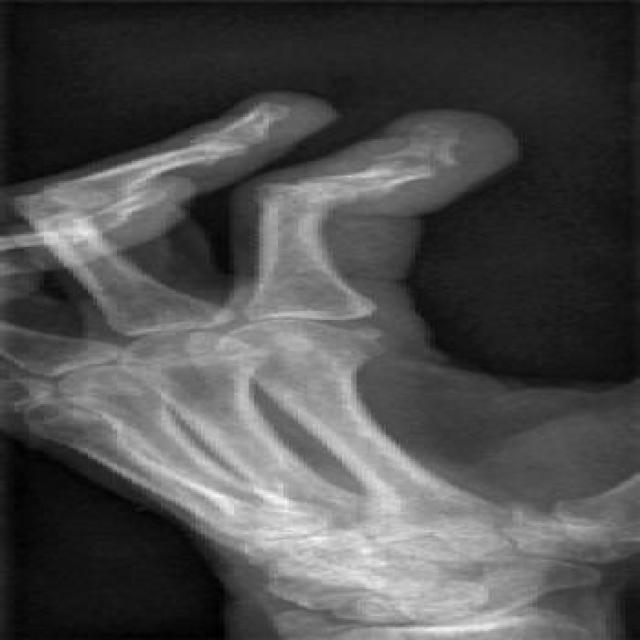Fracture: (352, 145, 485, 184)
